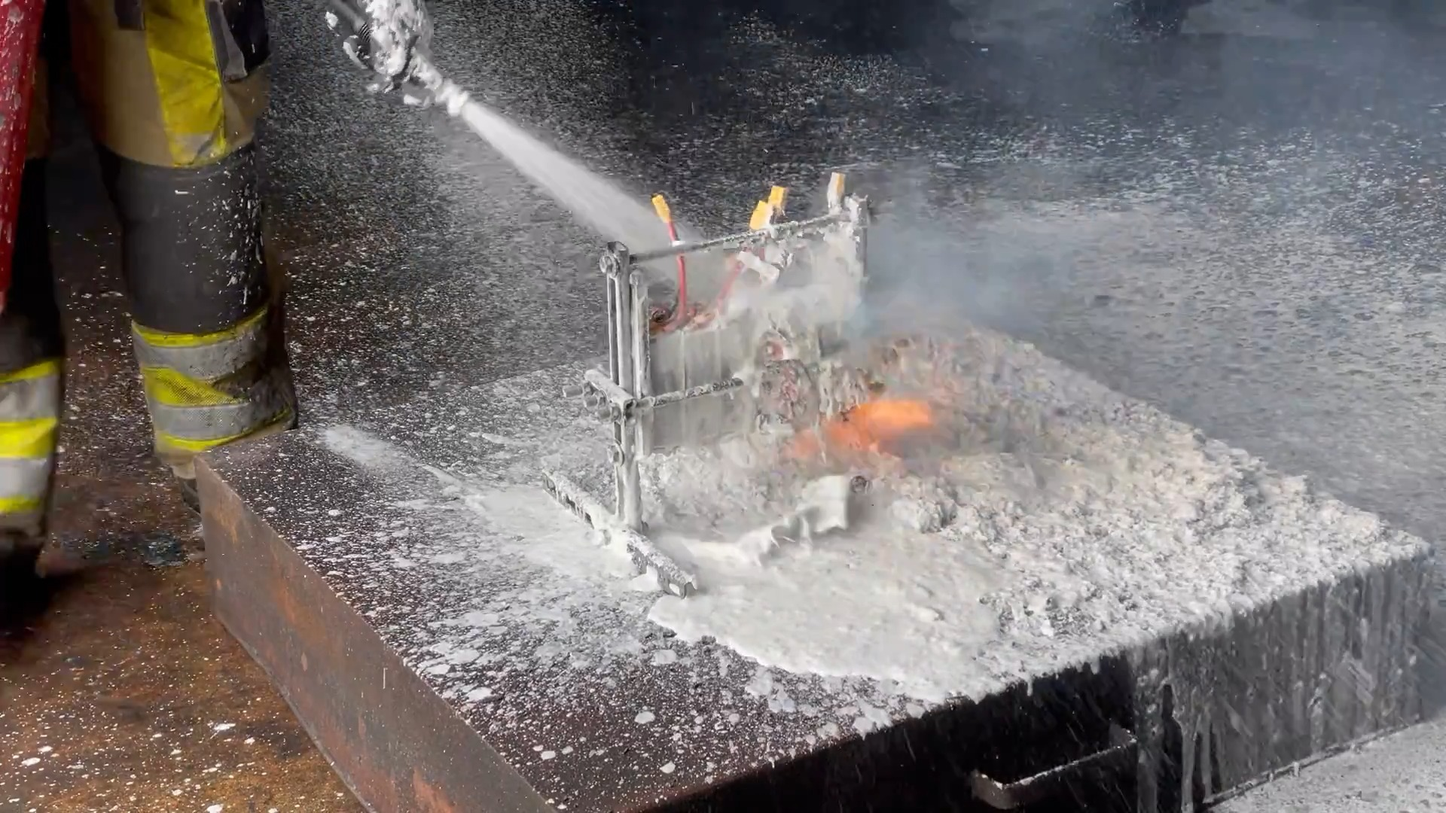fire: (792, 391, 940, 464)
